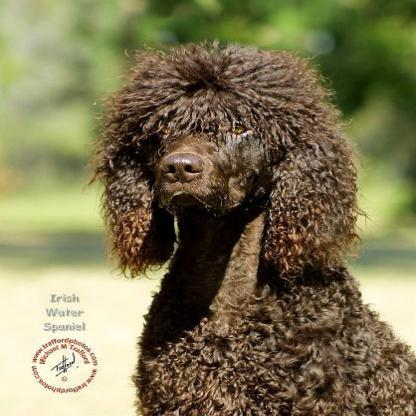Irish_water_spaniel: (84, 41, 413, 414)
